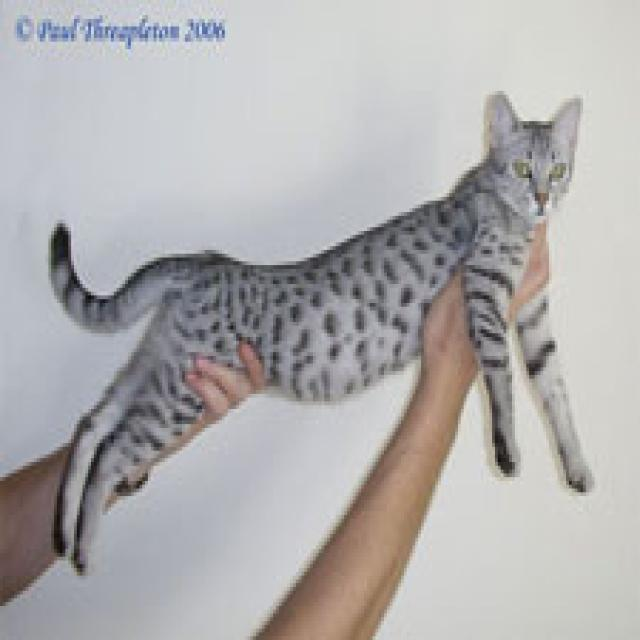Egyptian_Mau: (481, 81, 587, 222)
